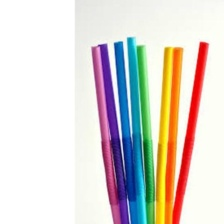drinking_straw: (169, 38, 214, 223), (87, 41, 123, 224), (133, 41, 157, 224)
